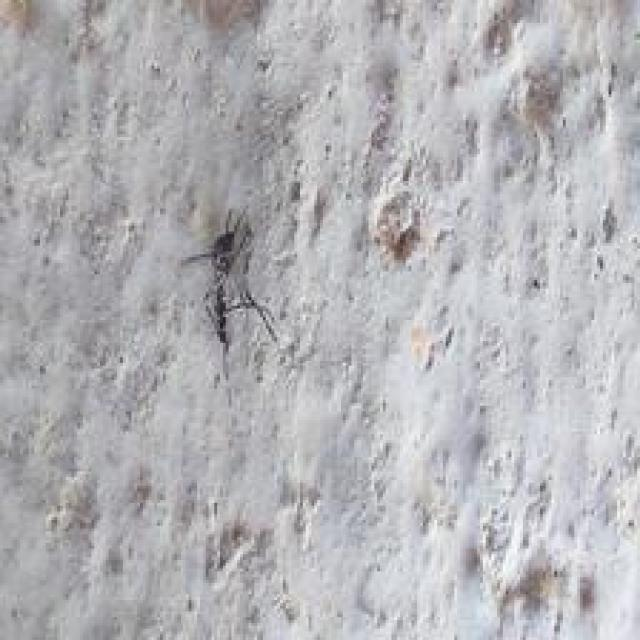Aedes albopictus: (177, 207, 280, 356)
